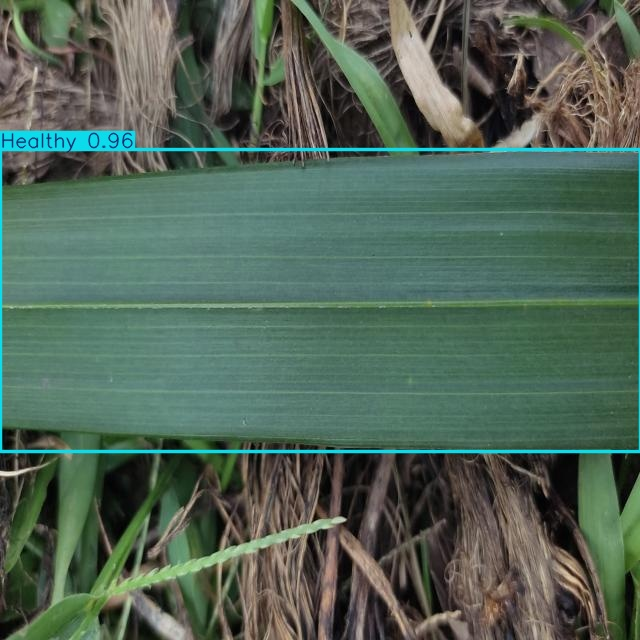Healthy: (0, 150, 640, 451)
